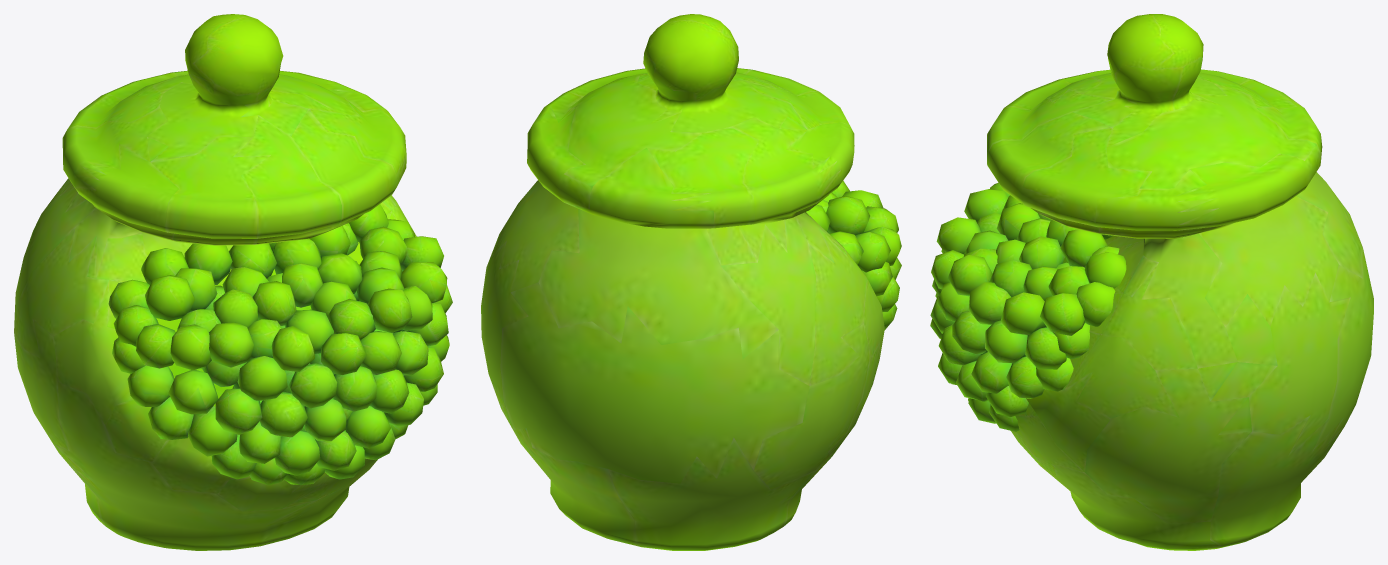
The model's file is item10_lime_candy_jar.glb.
The picture shows the model from 3 angles, left to right: view 1: azimuth 30°, elevation 25°; view 2: azimuth 150°, elevation 25°; view 3: azimuth 270°, elevation 25°; orthographic projection. The views are drawn at different scales.
Parts seen in each view (by area): view 1: geometry_0; view 2: geometry_0; view 3: geometry_0.
Boxes of the visible parts, x1,y1,x2,y2 form: geometry_0: [14, 14, 452, 550]; geometry_0: [481, 14, 901, 550]; geometry_0: [930, 14, 1373, 550].
Bounding box in the file's own units: 0.7378 × 0.9517 × 0.7939.
Materials: 1 (1 with a texture image).
